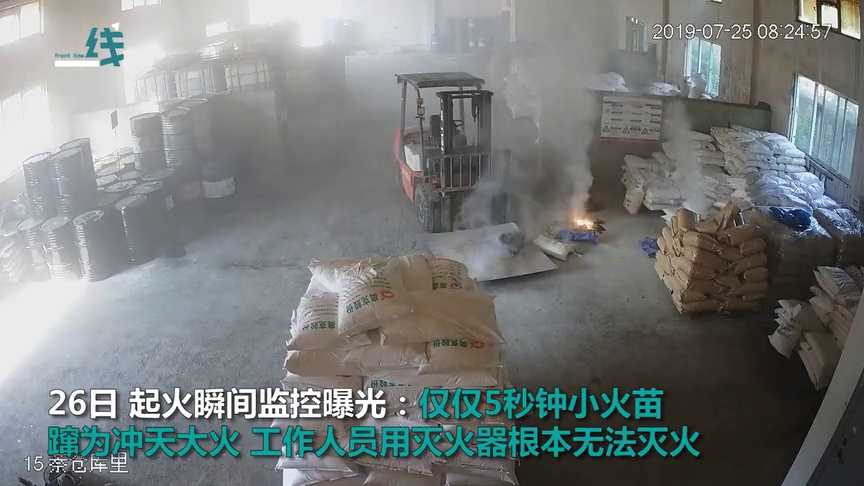fire: (570, 209, 594, 230)
smoke: (473, 161, 545, 239), (666, 101, 707, 203), (555, 100, 590, 215)
